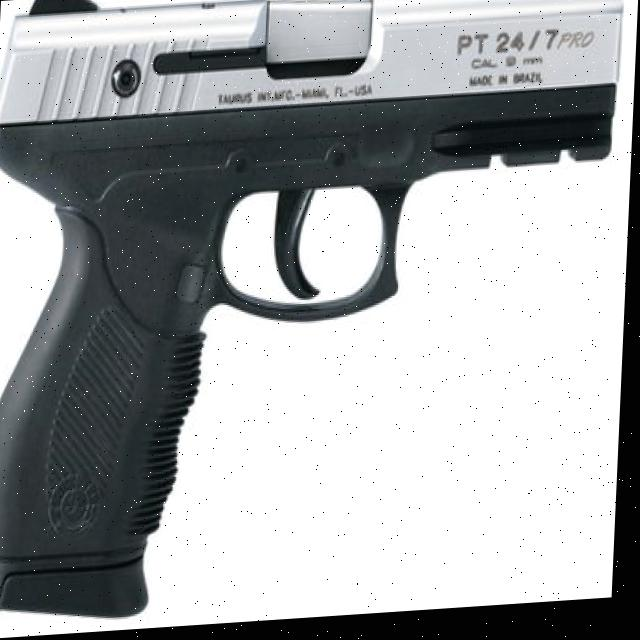pistol: (0, 0, 623, 628)
